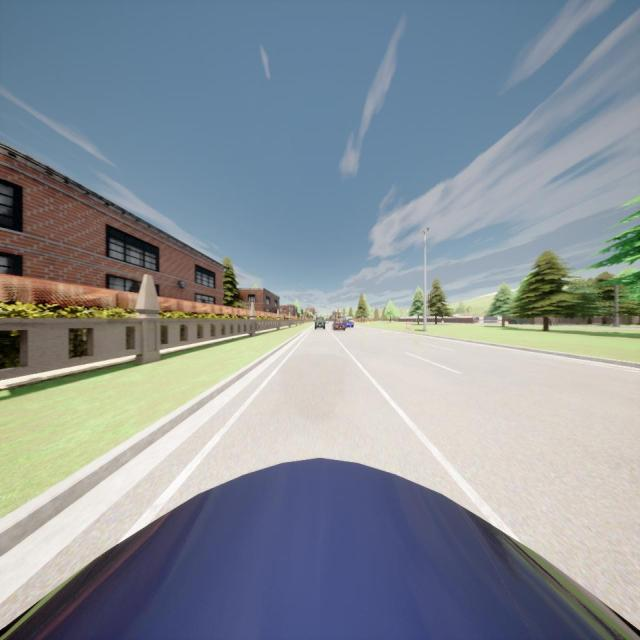Vehicle: (0, 455, 640, 640), (313, 316, 326, 330), (332, 320, 345, 330), (344, 316, 354, 324), (345, 322, 354, 328)
